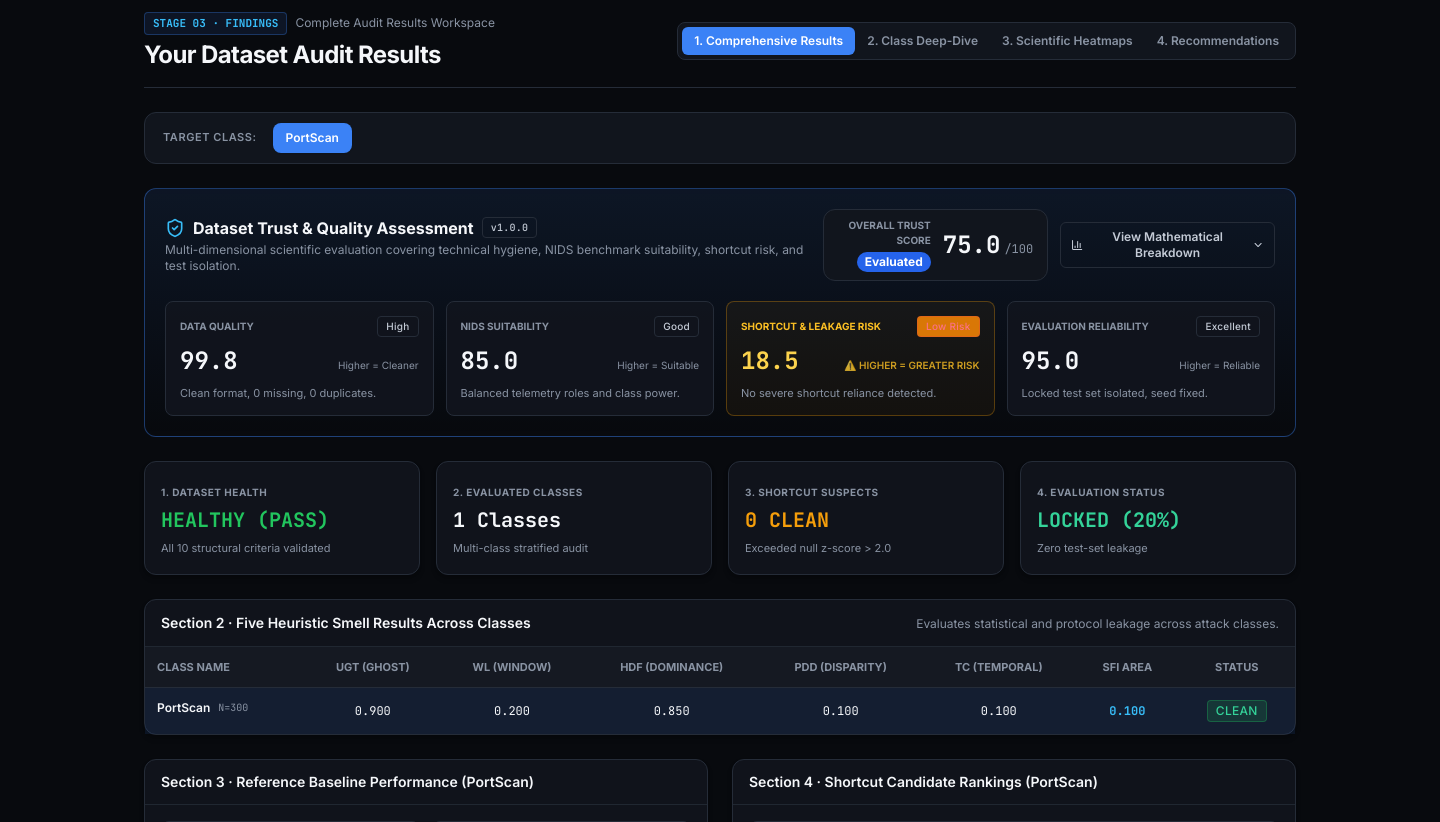
Test: Phase 6, 7, 13 Frontend Integration Tests › renders Scientific Heatmaps tab and per-class matrix in FindingsScreen
Note: Switch to Heatmaps tab
Click the button "3. Scientific Heatmaps": (1067, 41) [990,27,1145,55]
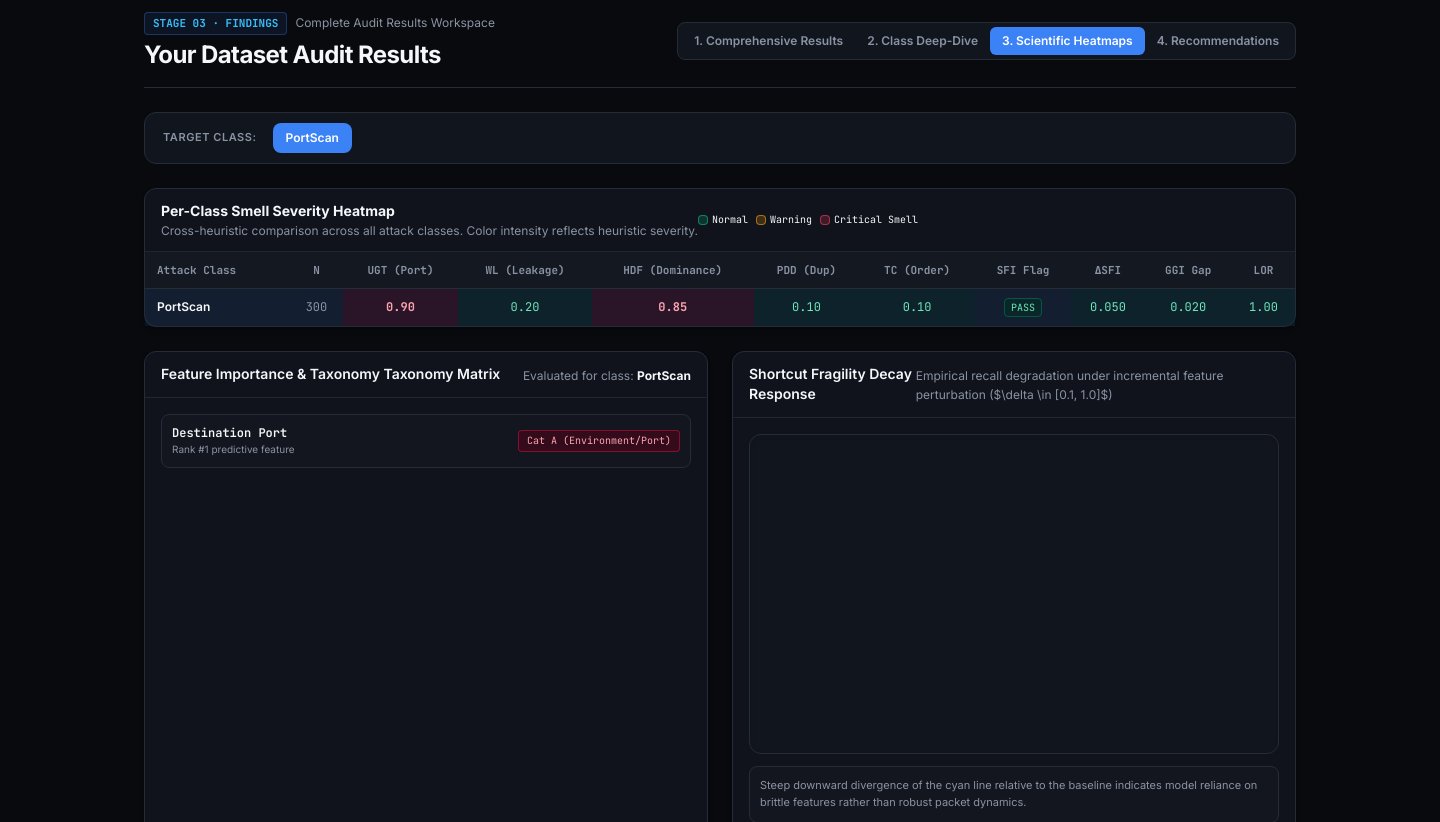
expect the heading "Per-Class Smell Severity Heatmap" is shown: met, box [161,202,395,218]
expect the heading "Feature Importance & Taxonomy Taxonomy Matrix" is shown: met, box [161,364,500,384]
expect the column heading "UGT (Port)" is shown: met, box [343,252,458,288]
